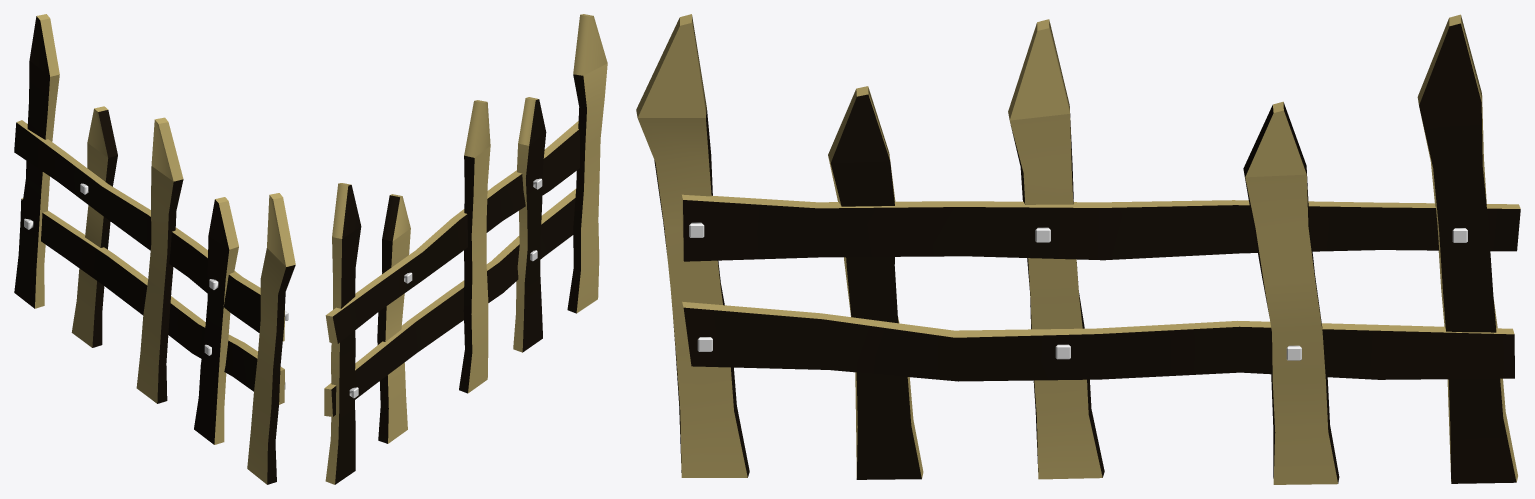
File: fence5.fbx
3 views of the same model, side by side, from view 1: azimuth 30°, elevation 25°; view 2: azimuth 150°, elevation 25°; view 3: azimuth 270°, elevation 25° (orthographic). The views are drawn at different scales.
Visible parts, largest first — view 1: fence5_LOD0, nails005; view 2: fence5_LOD0, nails005; view 3: fence5_LOD0, nails005.
Part boxes in pixels (bbox=[...]): fence5_LOD0: bbox=[14, 14, 295, 484]; nails005: bbox=[24, 183, 288, 389]; fence5_LOD0: bbox=[324, 14, 607, 484]; nails005: bbox=[349, 178, 542, 398]; fence5_LOD0: bbox=[636, 14, 1520, 484]; nails005: bbox=[689, 222, 1467, 360].
Size of what is drawn, in the model's own units: 17.48 by 167 by 287.
